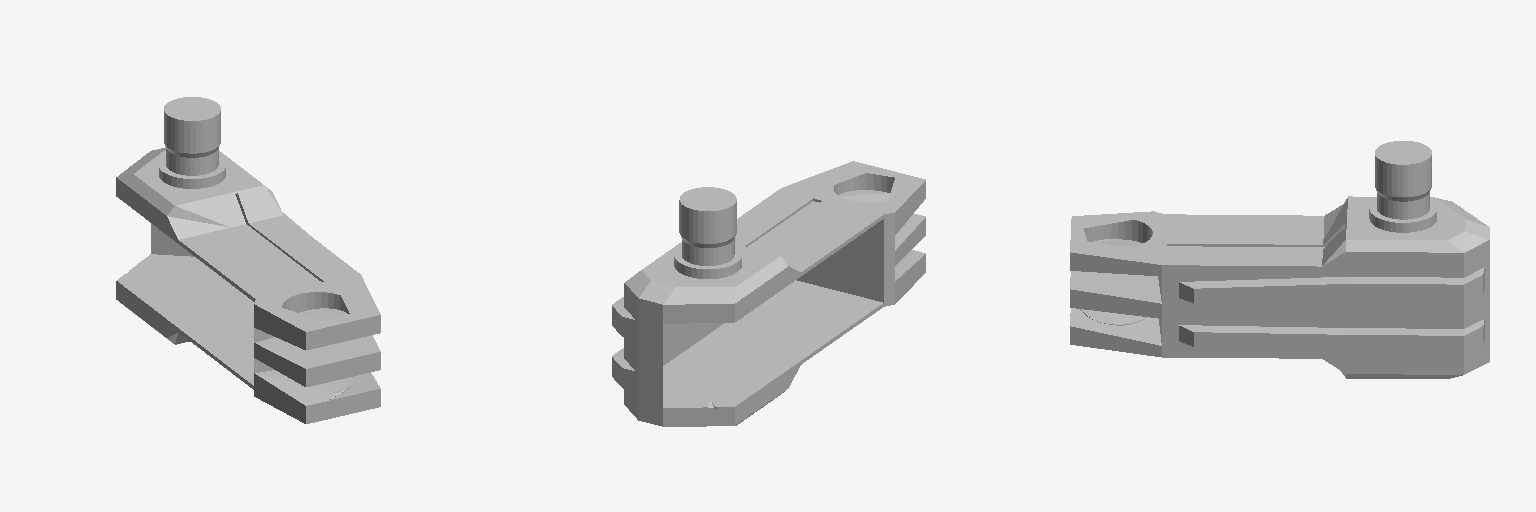
File: arm_l_02.obj
3 renders of one model, left to right at view 1: azimuth 30°, elevation 25°; view 2: azimuth 150°, elevation 25°; view 3: azimuth 270°, elevation 25°, orthographic.
Visible parts, largest first — view 1: arm_l_02_Cube.003; view 2: arm_l_02_Cube.003; view 3: arm_l_02_Cube.003.
Boxes of the visible parts, box(x1,y1,x2,y2) form: arm_l_02_Cube.003: box(116, 97, 380, 423); arm_l_02_Cube.003: box(612, 161, 925, 426); arm_l_02_Cube.003: box(1070, 141, 1489, 378).
Size of the model in its own units: 0.2622 by 0.3984 by 0.7412.